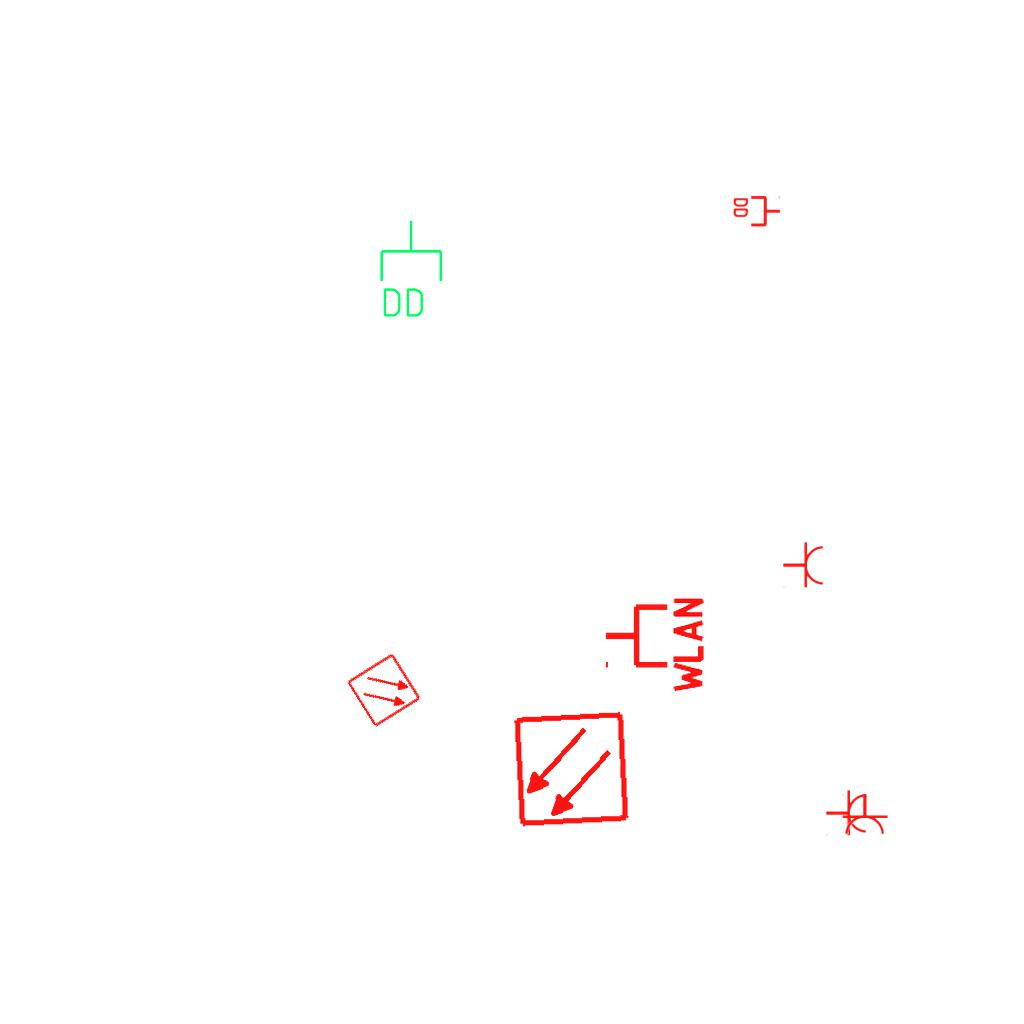Datenanschluss_zweifach: (376, 218, 445, 321), (731, 195, 782, 229)
RMO_Rauchmelder_optischer: (512, 710, 631, 829), (345, 651, 423, 729)
Schukosteckdose_einfach: (782, 541, 825, 591), (825, 789, 868, 839), (839, 793, 889, 836)
WLAN: (601, 593, 706, 697)
